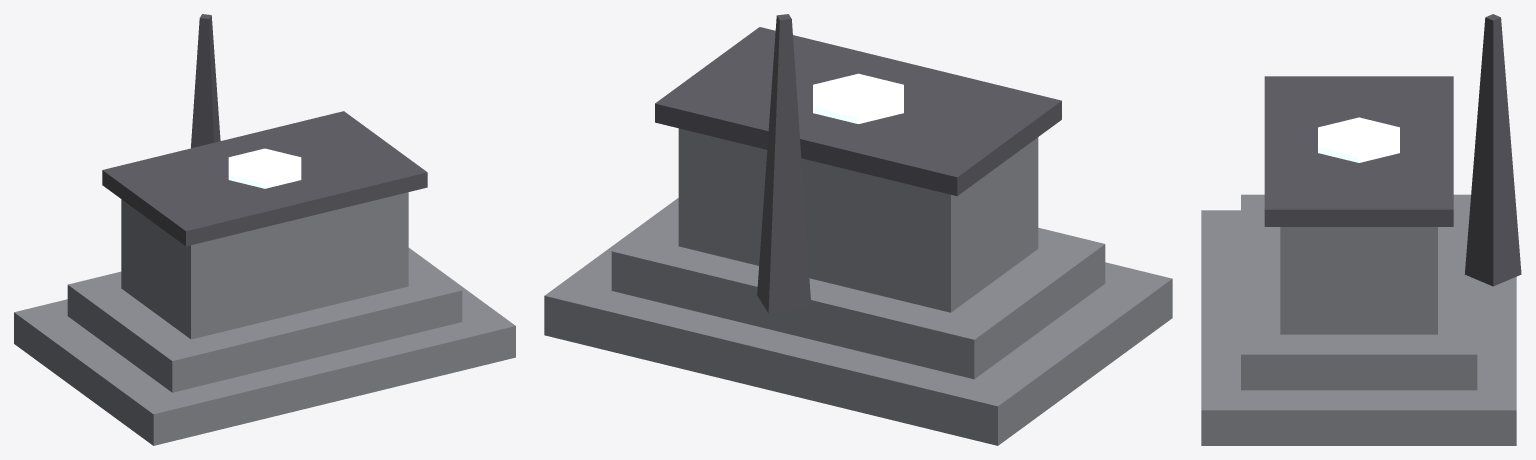
The model's file is altar.glb.
The picture shows the model from 3 angles, left to right: view 1: azimuth 30°, elevation 25°; view 2: azimuth 150°, elevation 25°; view 3: azimuth 270°, elevation 25°; orthographic projection. The views are drawn at different scales.
Visible parts, largest first — view 1: altar; view 2: altar; view 3: altar.
Boxes of the visible parts, box(x1,y1,x2,y2) form: altar: box(14, 14, 515, 445); altar: box(544, 14, 1172, 445); altar: box(1201, 14, 1521, 445).
Bounding box in the file's own units: 3 × 2.3 × 2.03.
